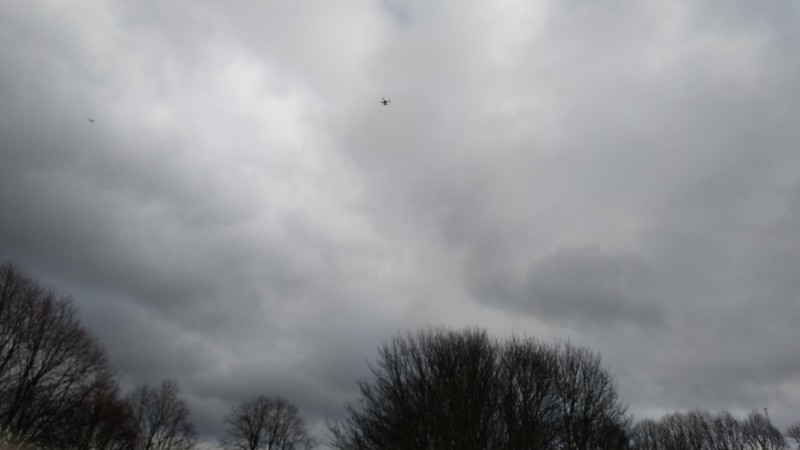drone: (379, 97, 392, 107)
